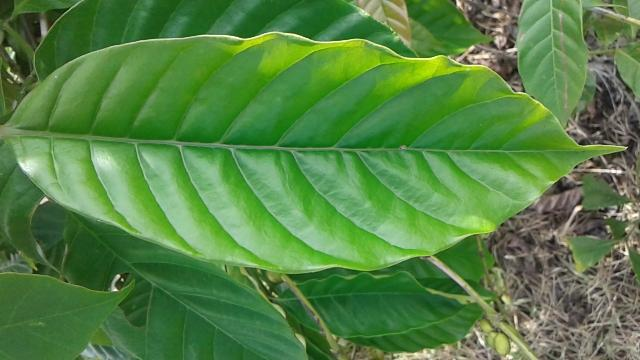healthy: (6, 30, 612, 274)
